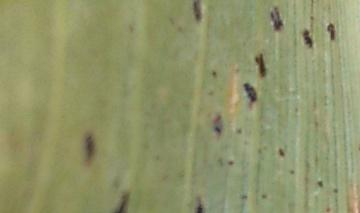tarspot: (270, 5, 284, 32), (243, 81, 258, 103), (255, 53, 267, 78), (84, 134, 94, 163), (193, 1, 203, 24), (302, 29, 314, 48), (119, 194, 129, 213), (327, 22, 336, 40), (213, 112, 223, 124), (213, 125, 222, 136), (195, 202, 203, 213), (210, 69, 218, 77), (261, 192, 269, 200), (278, 149, 285, 157), (317, 179, 324, 187), (241, 193, 249, 200), (332, 187, 339, 194), (309, 14, 315, 22), (227, 160, 234, 166), (289, 169, 296, 175), (236, 128, 242, 135), (325, 206, 331, 213)
